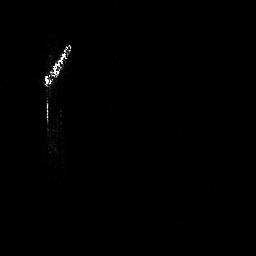ship: (39, 41, 74, 91)
